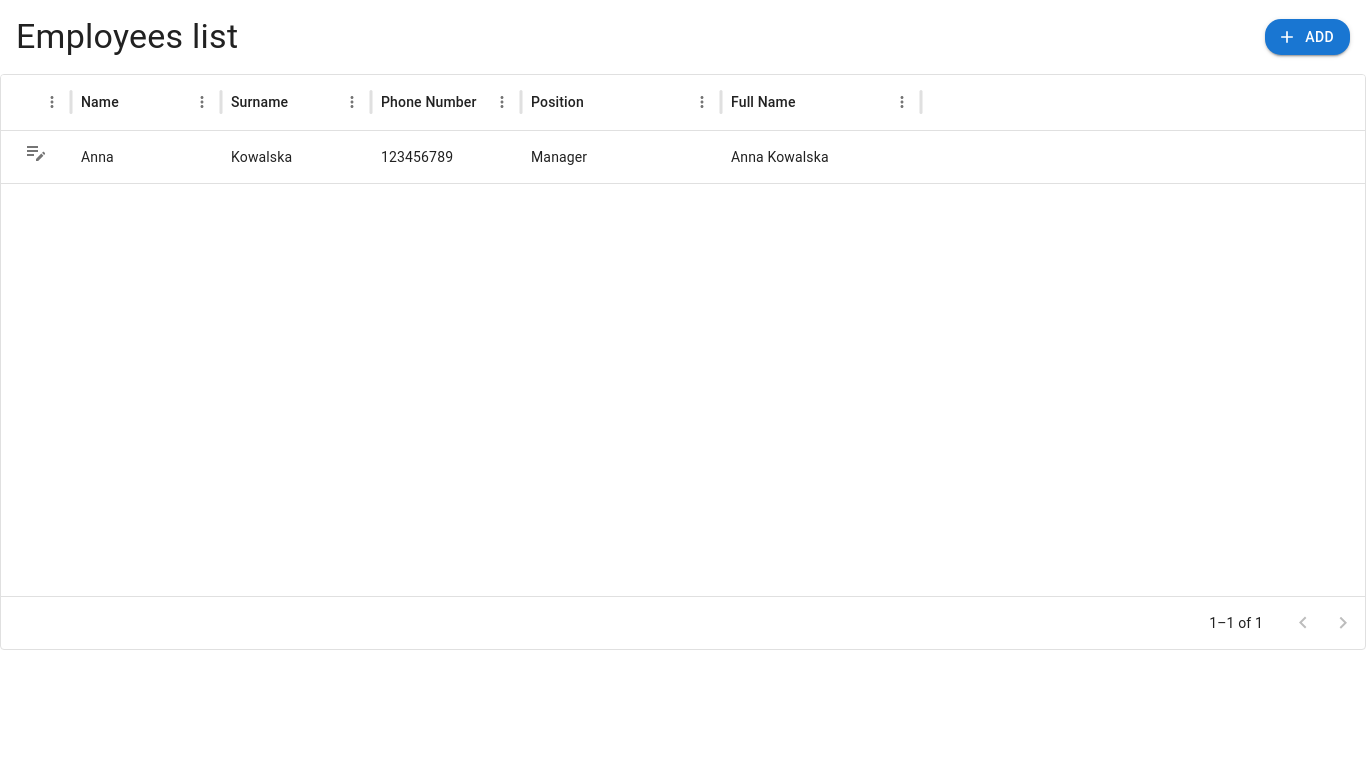
Scenario: Employees page › opens modal when header button is clicked
Click the button "Add" at (1308, 37), box [1265,19,1350,55]
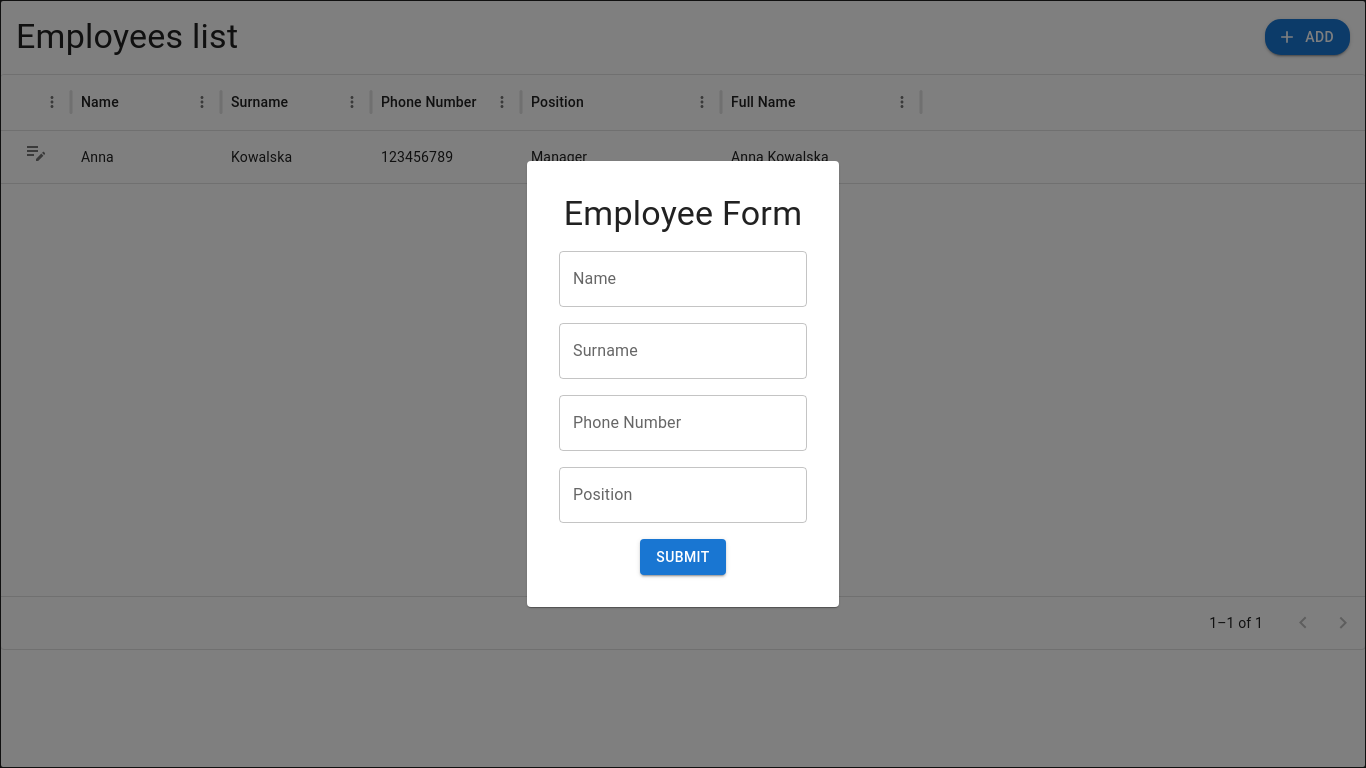
Expected: the heading "Employee Form" is shown, [564,193,802,235]
